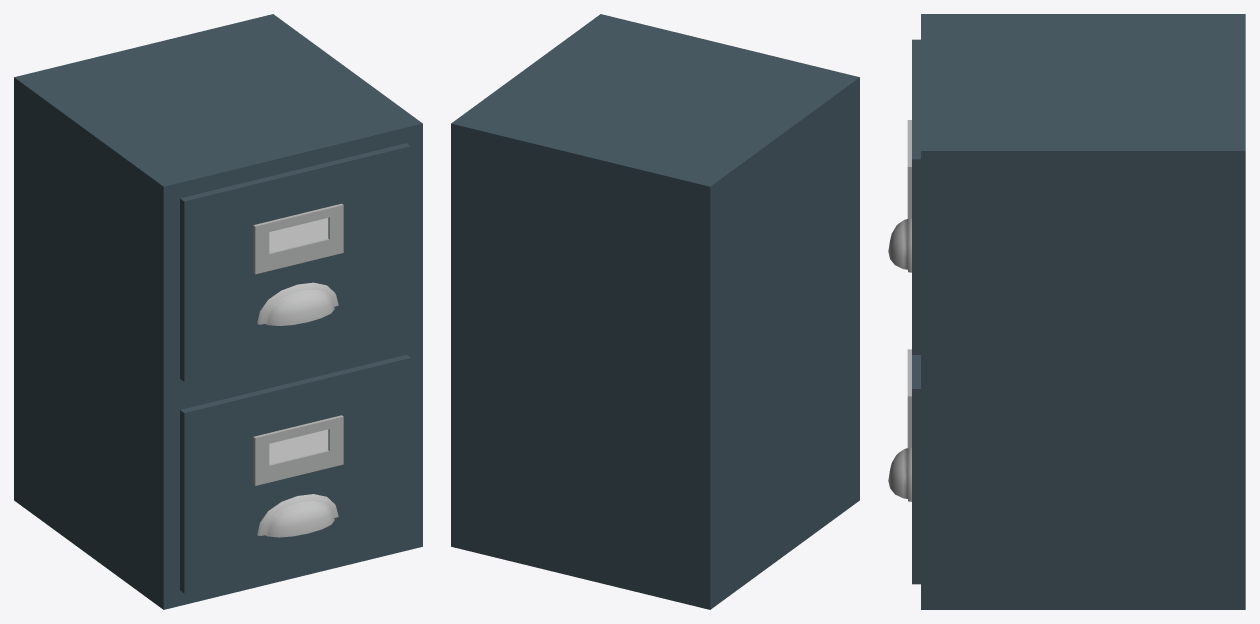
File: file_cabinet.glb
The picture shows the model from 3 angles, left to right: view 1: azimuth 30°, elevation 25°; view 2: azimuth 150°, elevation 25°; view 3: azimuth 270°, elevation 25°; orthographic projection. The views are drawn at different scales.
Visible parts, largest first — view 1: Cube.988; view 2: Cube.988; view 3: Cube.988.
Part boxes in pixels (<box>): Cube.988: <box>14,14,422,609</box>; Cube.988: <box>451,14,859,609</box>; Cube.988: <box>888,14,1245,609</box>.
Bounding box in the file's own units: 1.26 × 1.99 × 1.39.
1 material, 1 textured.
